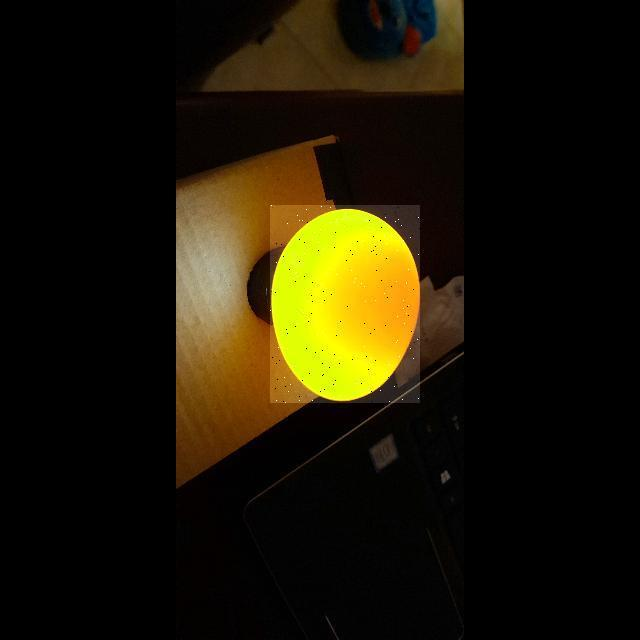A - Good: (270, 204, 422, 404)
